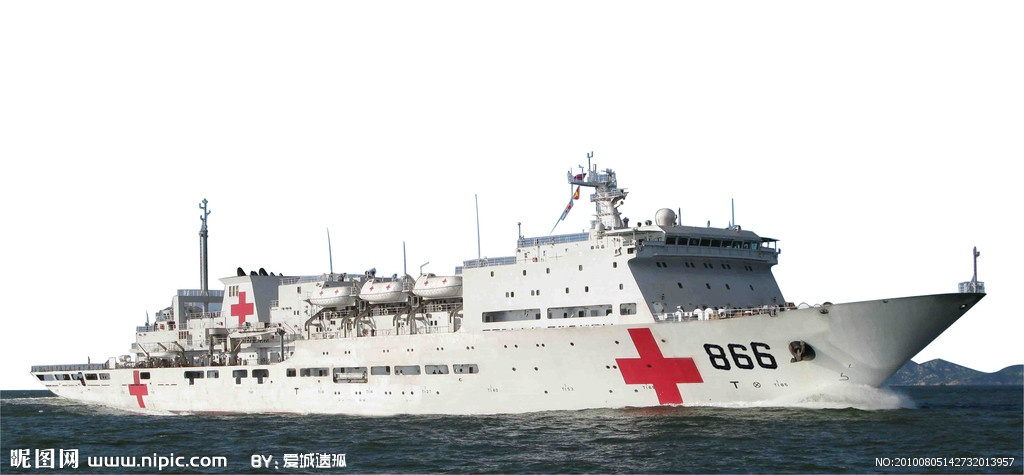warship: (31, 151, 973, 420)
